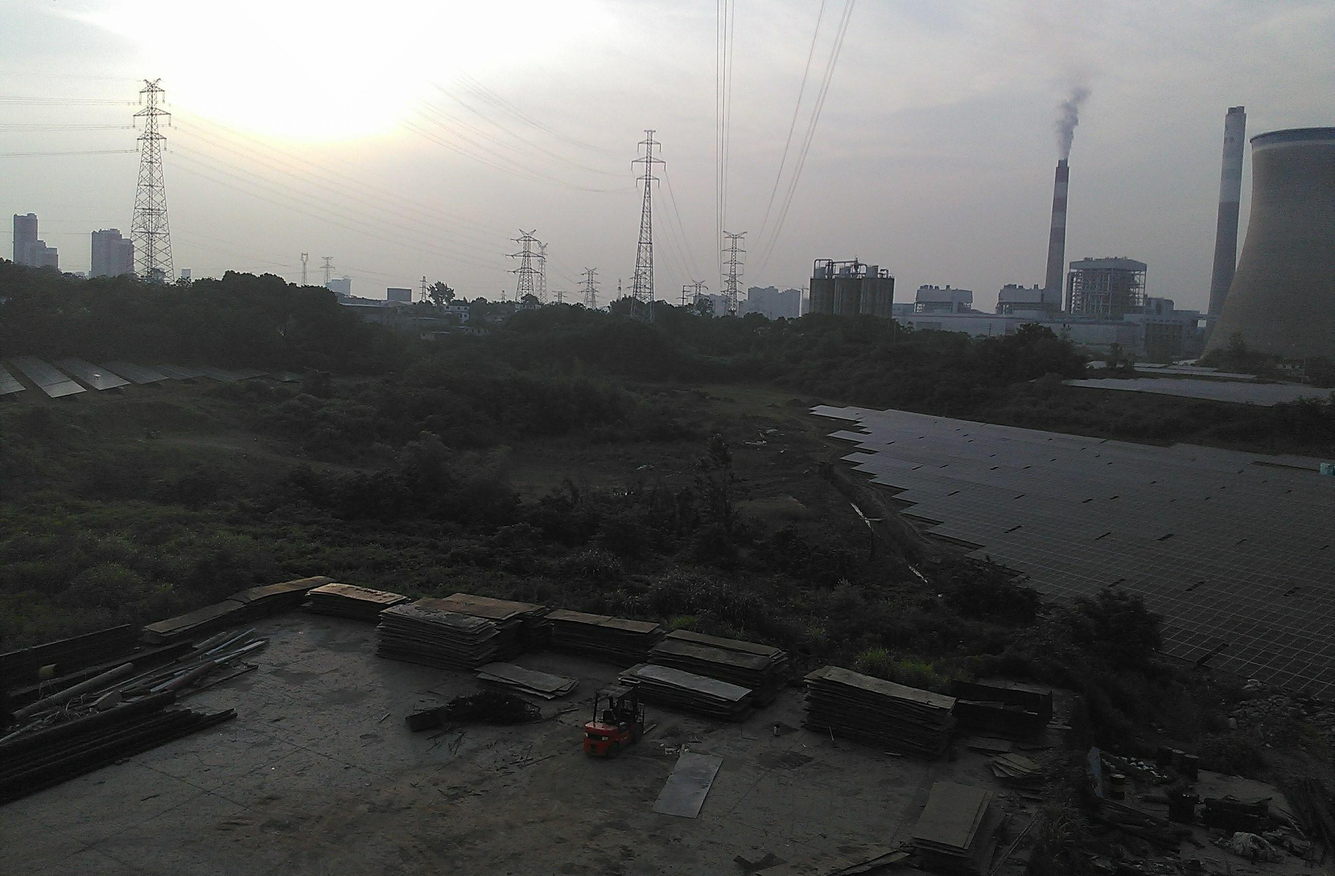工厂排烟: (1050, 85, 1094, 160)
